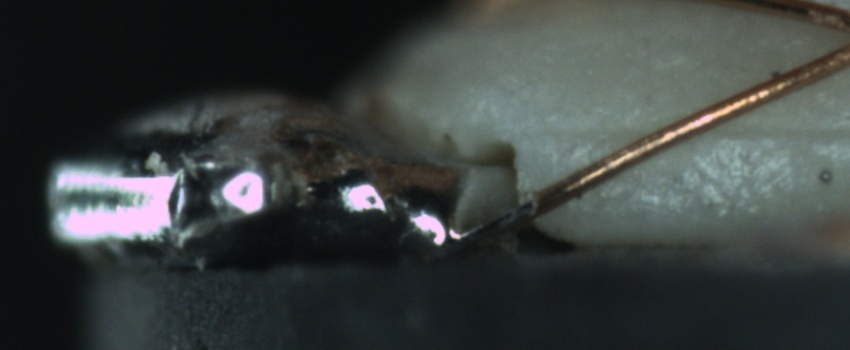CL: (830, 10, 850, 62)
DL: (541, 100, 850, 162)
TS: (454, 196, 538, 243)
